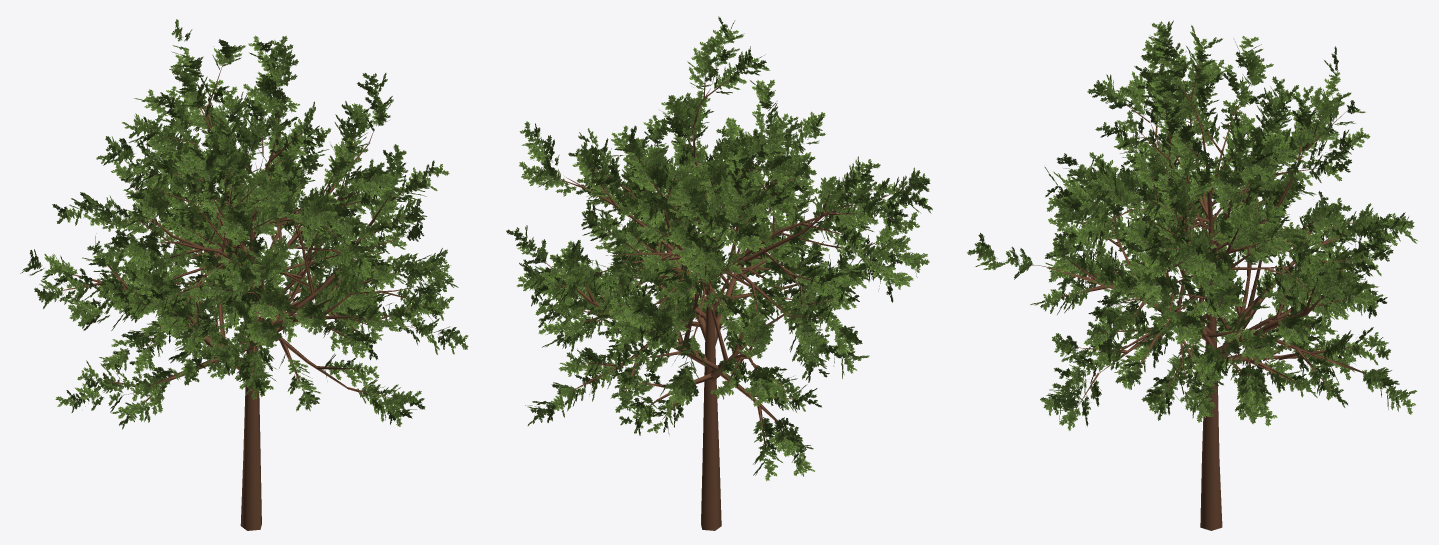
File: tree2_lod1.glb
The picture shows the model from 3 angles, left to right: view 1: azimuth 30°, elevation 25°; view 2: azimuth 150°, elevation 25°; view 3: azimuth 270°, elevation 25°; orthographic projection. The views are drawn at different scales.
Parts seen in each view (by area): view 1: leaves, trunk; view 2: leaves, trunk; view 3: leaves, trunk.
Part boxes in pixels (x1,y1,x2,y2): leaves: [20, 19, 468, 429]; trunk: [49, 56, 423, 530]; leaves: [506, 16, 932, 481]; trunk: [534, 60, 905, 530]; leaves: [967, 20, 1418, 430]; trunk: [1015, 61, 1374, 530].
Bounding box in the file's own units: 0.8208 × 1 × 0.8176.
Materials: 2 (1 with a texture image).
